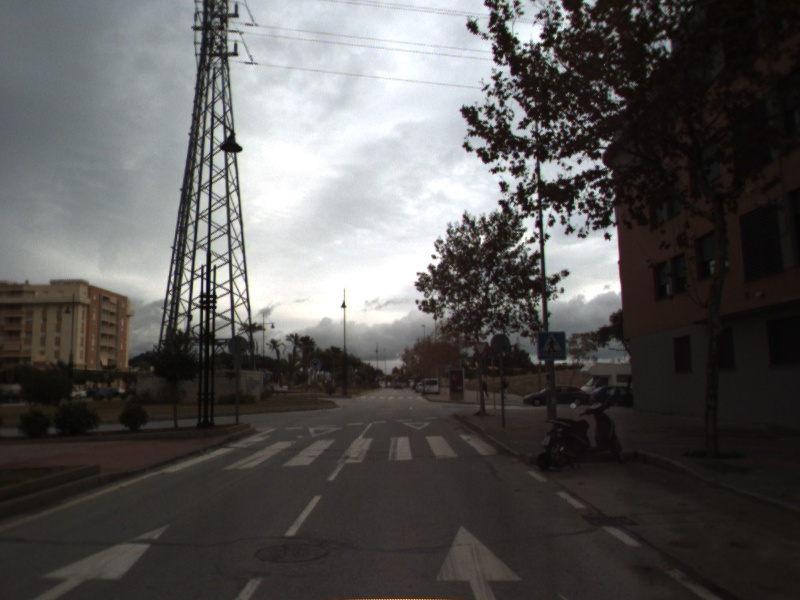STRAIGHT: (27, 519, 175, 600), (433, 523, 526, 600)
